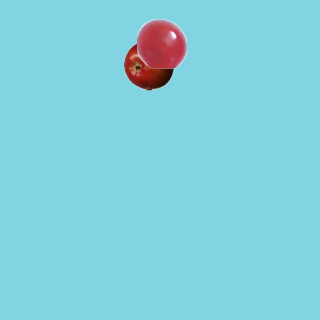Apple Braeburn: (123, 40, 173, 90)
Redcurrant: (136, 18, 186, 68)
